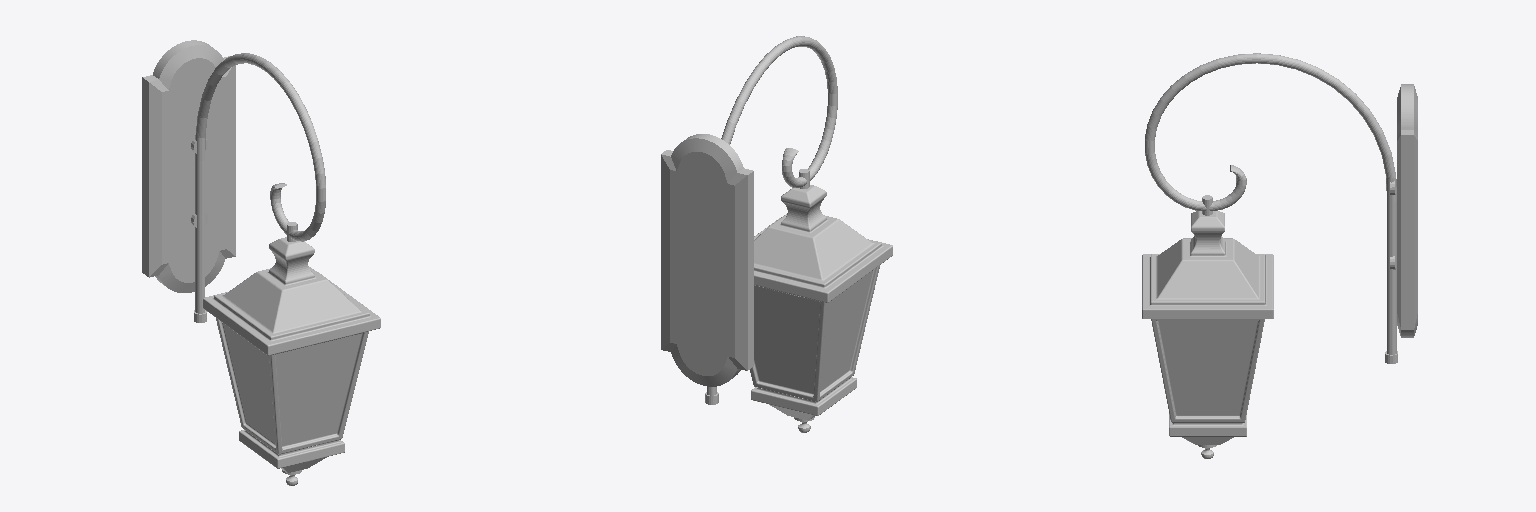
Rendered from Lampara.obj.
3 views of the same model, side by side, from view 1: azimuth 30°, elevation 25°; view 2: azimuth 150°, elevation 25°; view 3: azimuth 270°, elevation 25° (orthographic).
Parts seen in each view (by area): view 1: Line004, Line001, Mesh001, Loft001; view 2: Line004, Line001, Mesh001, Loft001; view 3: Line001, Mesh001, Loft001, Line004.
Boxes of the visible parts, x1=… form: Line004: x1=142, y1=40, x2=235, y2=292; Line001: x1=203, y1=237, x2=380, y2=472; Mesh001: x1=223, y1=323, x2=360, y2=445; Loft001: x1=195, y1=53, x2=325, y2=313; Line004: x1=661, y1=134, x2=753, y2=386; Line001: x1=750, y1=185, x2=892, y2=420; Mesh001: x1=754, y1=271, x2=872, y2=393; Loft001: x1=707, y1=36, x2=837, y2=395; Line001: x1=1142, y1=211, x2=1273, y2=444; Mesh001: x1=1159, y1=320, x2=1256, y2=414; Loft001: x1=1145, y1=53, x2=1396, y2=354; Line004: x1=1397, y1=84, x2=1417, y2=337.
Size of the model in its own units: 0.4554 by 1.55 by 0.9532.